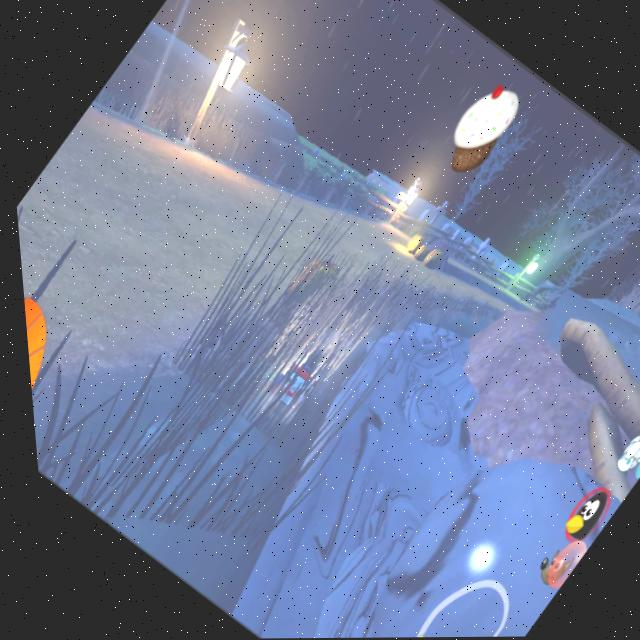track: (25, 79, 354, 378)
